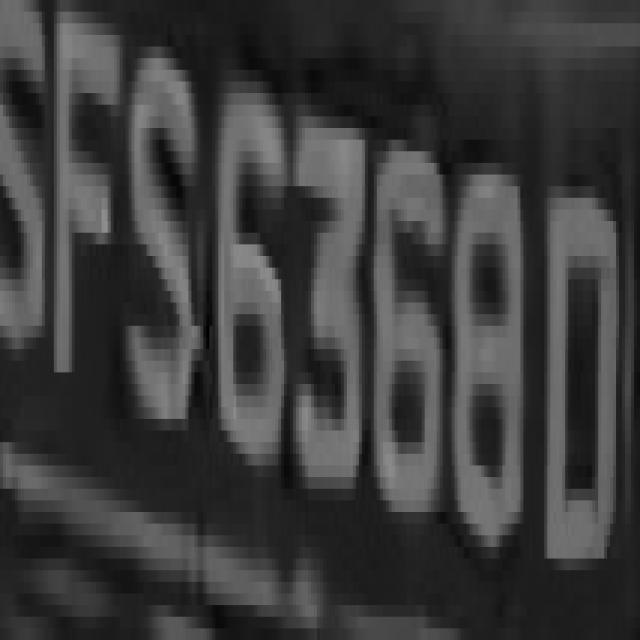3: (290, 105, 368, 512)
6: (365, 116, 454, 547), (209, 47, 290, 512)
8: (449, 128, 529, 582)
D: (535, 175, 622, 605)
F: (48, 23, 120, 442)
S: (122, 47, 194, 466), (3, 23, 45, 384)
